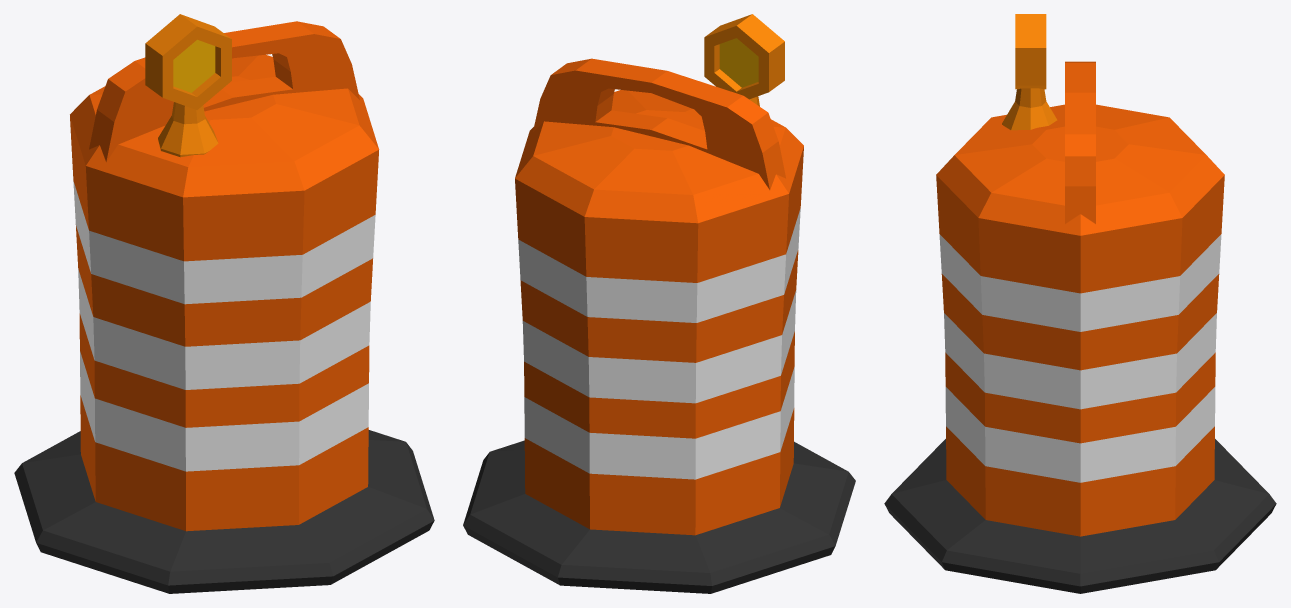
The model's file is conogrande.fbx.
3 renders of one model, left to right at view 1: azimuth 30°, elevation 25°; view 2: azimuth 150°, elevation 25°; view 3: azimuth 270°, elevation 25°, orthographic. The views are drawn at different scales.
Visible parts, largest first — view 1: D-4; view 2: D-4; view 3: D-4.
Boxes of the visible parts, bbox=[...] form: D-4: bbox=[14, 14, 434, 593]; D-4: bbox=[463, 14, 855, 593]; D-4: bbox=[884, 14, 1276, 593].
Size of the model in its own units: 83.16 by 110 by 83.16.
Materials: 1 (1 with a texture image).
